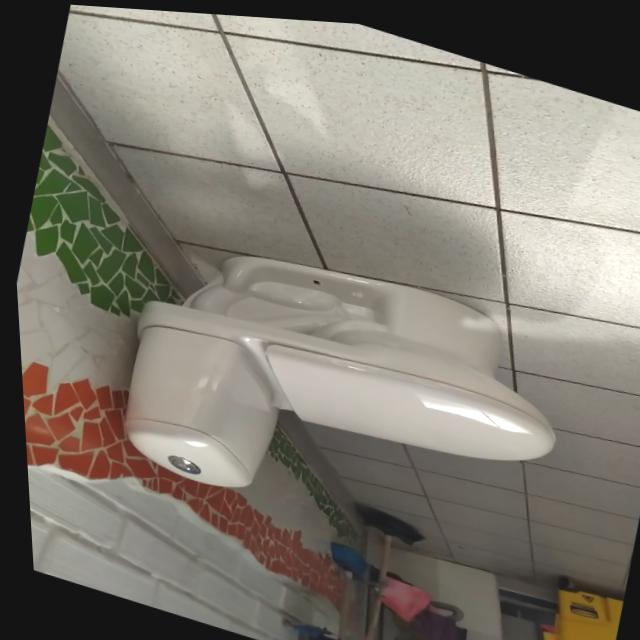toilet: (93, 201, 583, 581)
